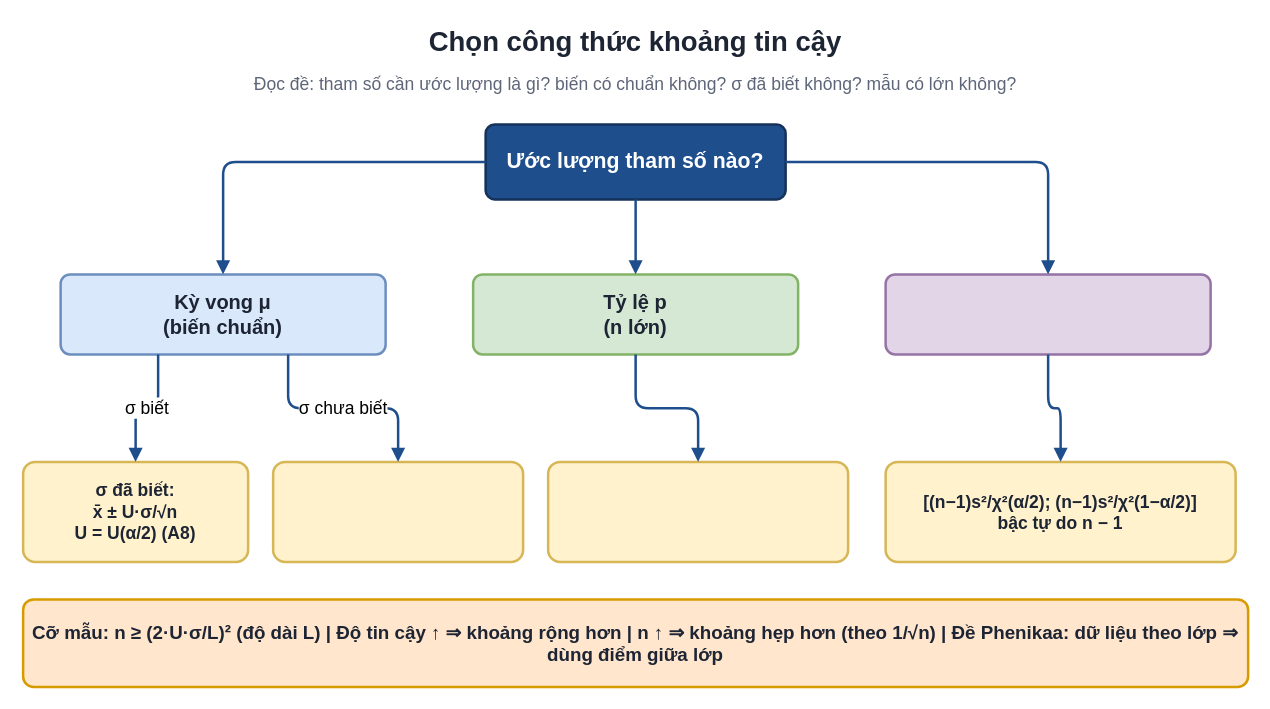
Some shapes in this 1270 by 709 pixel diagram are drawn without their labels. Each missing label, with the box of its shape:
f ± U·√(f(1−f)/n) f = tần suất mẫu U = U(α/2): (546, 460, 849, 562)
Phương sai σ² (mở rộng, chuẩn): (884, 272, 1211, 355)
σ chưa biết: x̄ ± t·s/√n t = t(α/2)(n−1) (A9): (271, 460, 524, 562)
